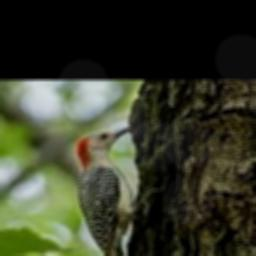Woodpecker: (77, 126, 164, 256)
